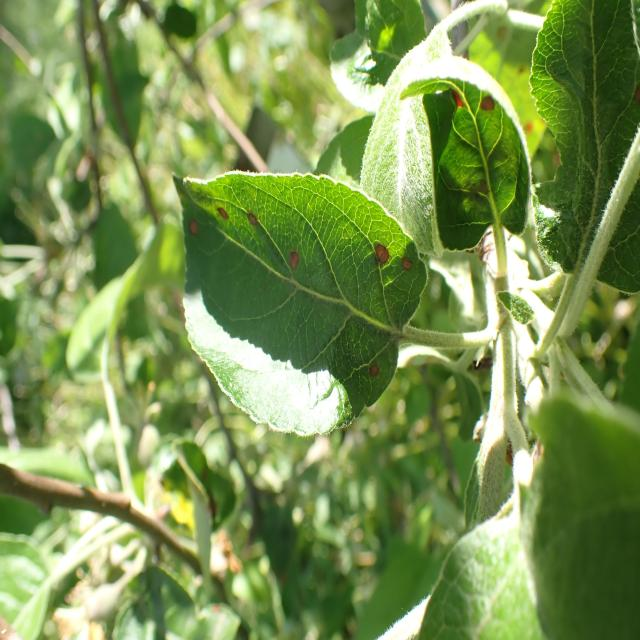frog-eye-leaf-spot: (172, 168, 430, 438)
